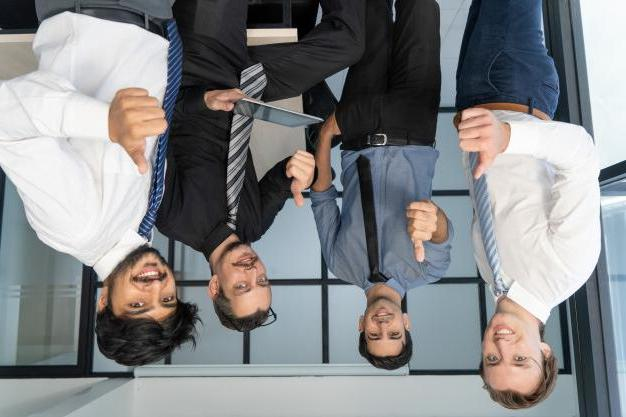thumbsdown: (116, 88, 168, 175), (458, 107, 496, 180), (406, 202, 438, 264), (286, 149, 316, 208)
